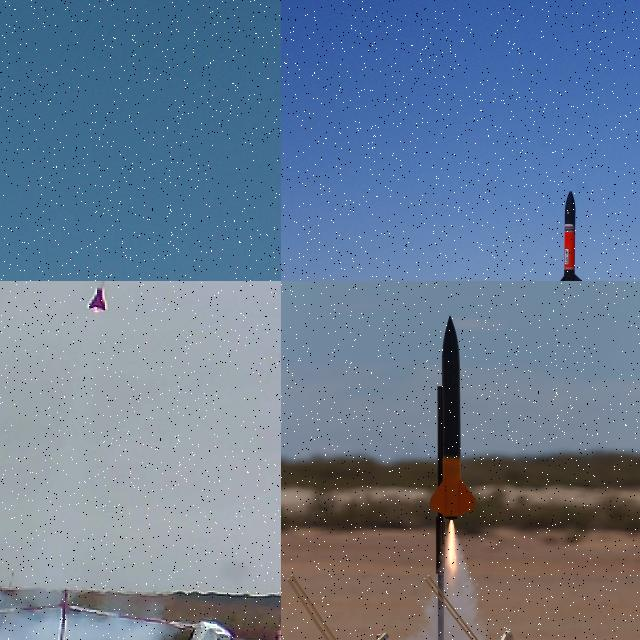Rocket: (428, 315, 478, 521), (555, 190, 585, 281), (86, 281, 110, 311)
